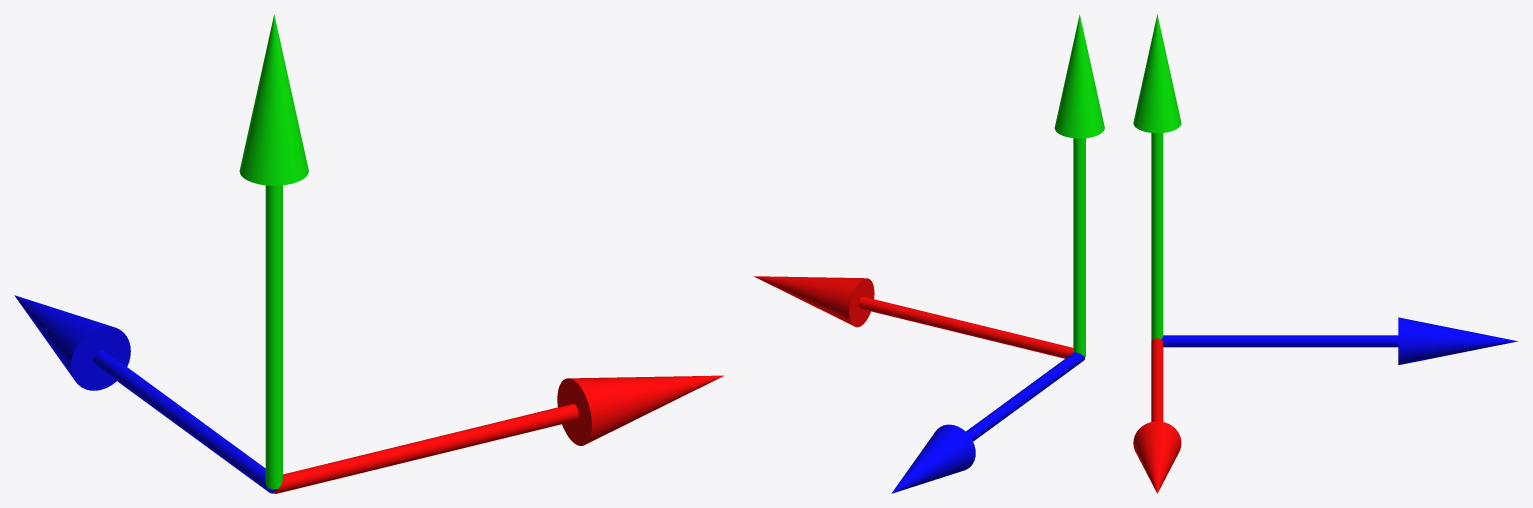
The model's file is compass.fbx.
The picture shows the model from 3 angles, left to right: view 1: azimuth 30°, elevation 25°; view 2: azimuth 150°, elevation 25°; view 3: azimuth 270°, elevation 25°; orthographic projection. The views are drawn at different scales.
Visible parts, largest first — view 1: Cone_3, Cone, Cylinder, Cylinder_3, Cone_2, Cylinder_2; view 2: Cone_3, Cone, Cylinder, Cone_2, Cylinder_3, Cylinder_2; view 3: Cone_3, Cylinder_2, Cone_2, Cylinder_3, Cone, Cylinder.
Part boxes in pixels (x1,y1,x2,y2): Cone_3: (239,15,308,185); Cone: (557,375,723,445); Cylinder: (274,404,578,493); Cylinder_3: (265,185,282,489); Cone_2: (14,295,130,390); Cylinder_2: (93,350,274,493); Cone_3: (1054,14,1104,138); Cone: (754,276,874,327); Cylinder: (859,296,1073,358); Cone_2: (891,424,975,493); Cylinder_3: (1073,138,1085,356); Cylinder_2: (966,352,1085,441); Cone_3: (1133,14,1181,133); Cylinder_2: (1161,335,1398,347); Cone_2: (1398,317,1517,365); Cylinder_3: (1151,133,1163,340); Cone: (1133,421,1181,493); Cylinder: (1151,338,1163,421).
Bounding box in the file's own units: 32 × 32 × 32.
